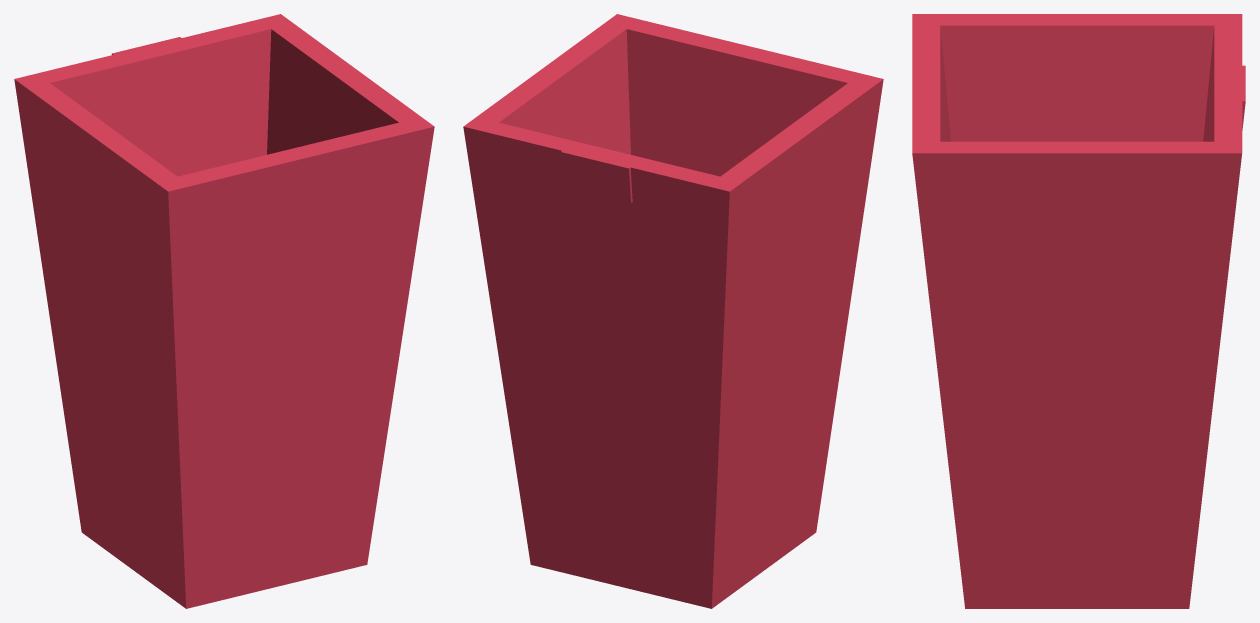
File: Itr_Trashcan1_Body_04.FBX
3 renders of one model, left to right at view 1: azimuth 30°, elevation 25°; view 2: azimuth 150°, elevation 25°; view 3: azimuth 270°, elevation 25°, orthographic. The views are drawn at different scales.
Parts seen in each view (by area): view 1: Itr_Trashcan1_Body_04; view 2: Itr_Trashcan1_Body_04; view 3: Itr_Trashcan1_Body_04.
Boxes of the visible parts, box(x1,y1,x2,y2) form: Itr_Trashcan1_Body_04: box(14, 14, 434, 608); Itr_Trashcan1_Body_04: box(463, 14, 883, 608); Itr_Trashcan1_Body_04: box(912, 14, 1245, 608).
Size of the model in its own units: 14.85 by 23.74 by 15.01.
